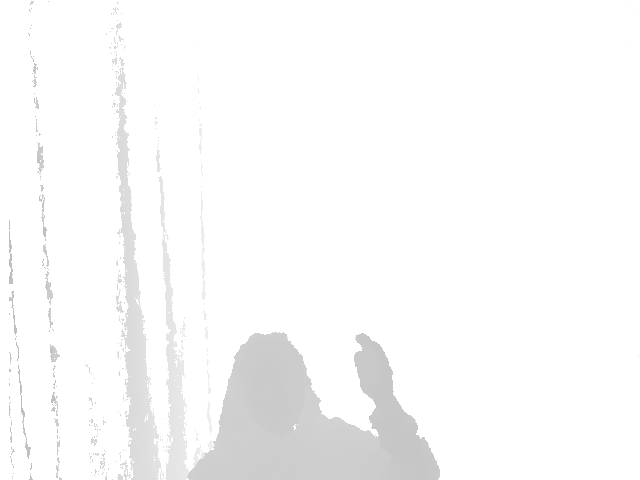head: (225, 331, 315, 418)
person: (188, 309, 445, 479)
